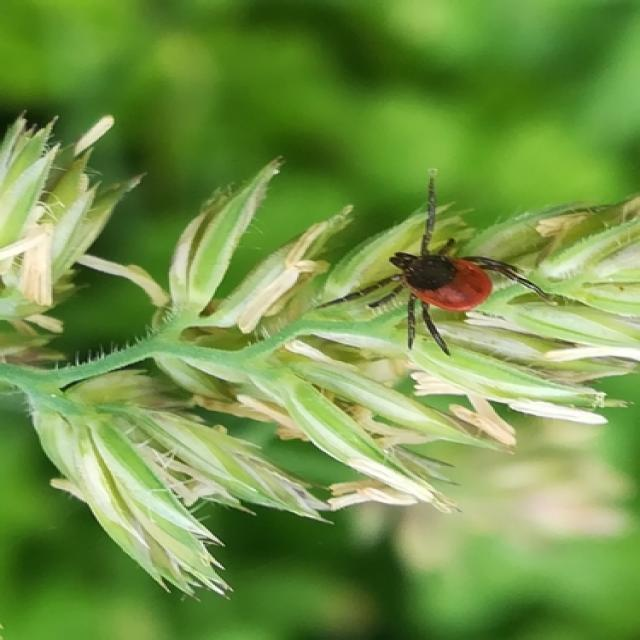Ixodes Ricinus-F: (314, 166, 556, 356)
